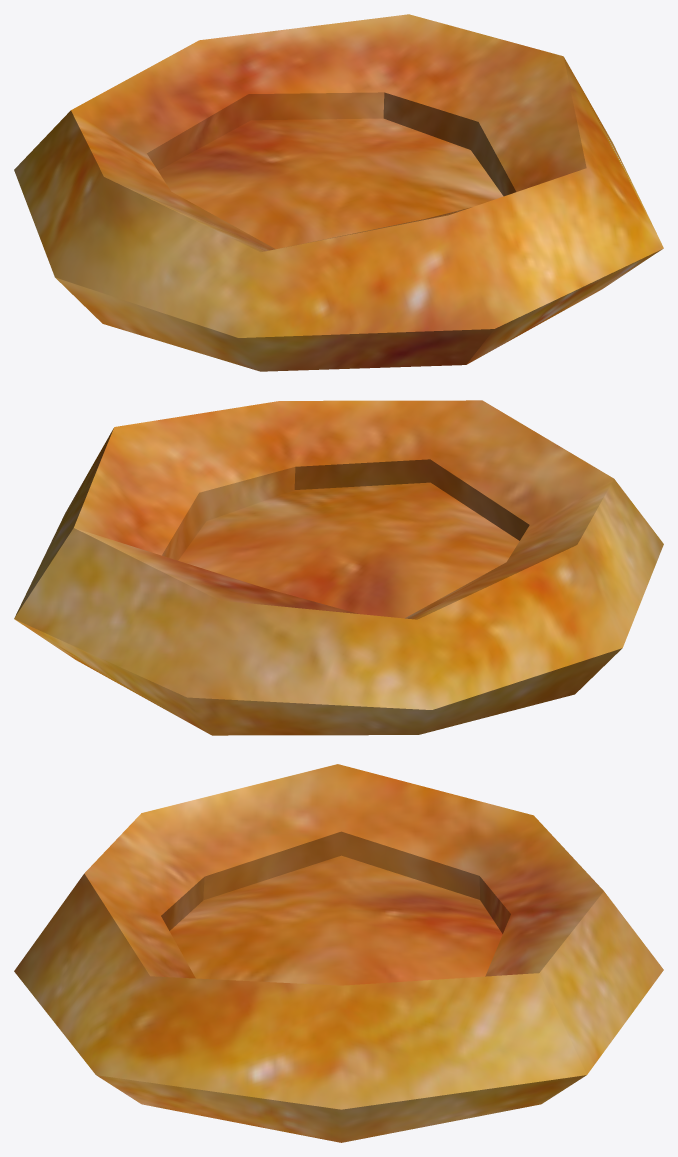
Rendered from SweetPastries_2.fbx.
3 views of the same model, one above another, from view 1: azimuth 30°, elevation 25°; view 2: azimuth 150°, elevation 25°; view 3: azimuth 270°, elevation 25° (orthographic).
Parts seen in each view (by area): view 1: SweetPastries_2; view 2: SweetPastries_2; view 3: SweetPastries_2.
Part boxes in pixels (box(x1,y1,x2,y2)): SweetPastries_2: box(14, 14, 663, 371); SweetPastries_2: box(14, 400, 663, 735); SweetPastries_2: box(14, 764, 663, 1142).
Size of the model in its own units: 0.2157 by 0.0578 by 0.2146.
